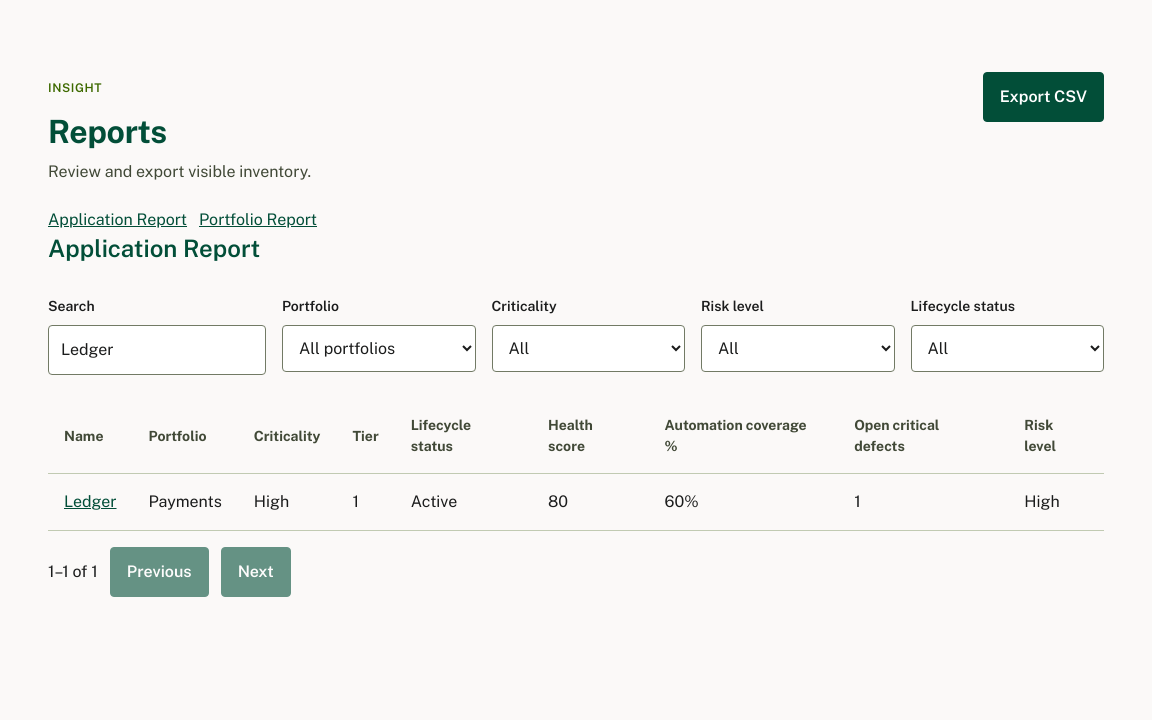
Test: reports › exports filtered CSV and displays server errors
Expected: the link "Ledger" is shown, [64,492,116,511]
Click the button "Export CSV" at (1043, 97), box [983,72,1104,122]
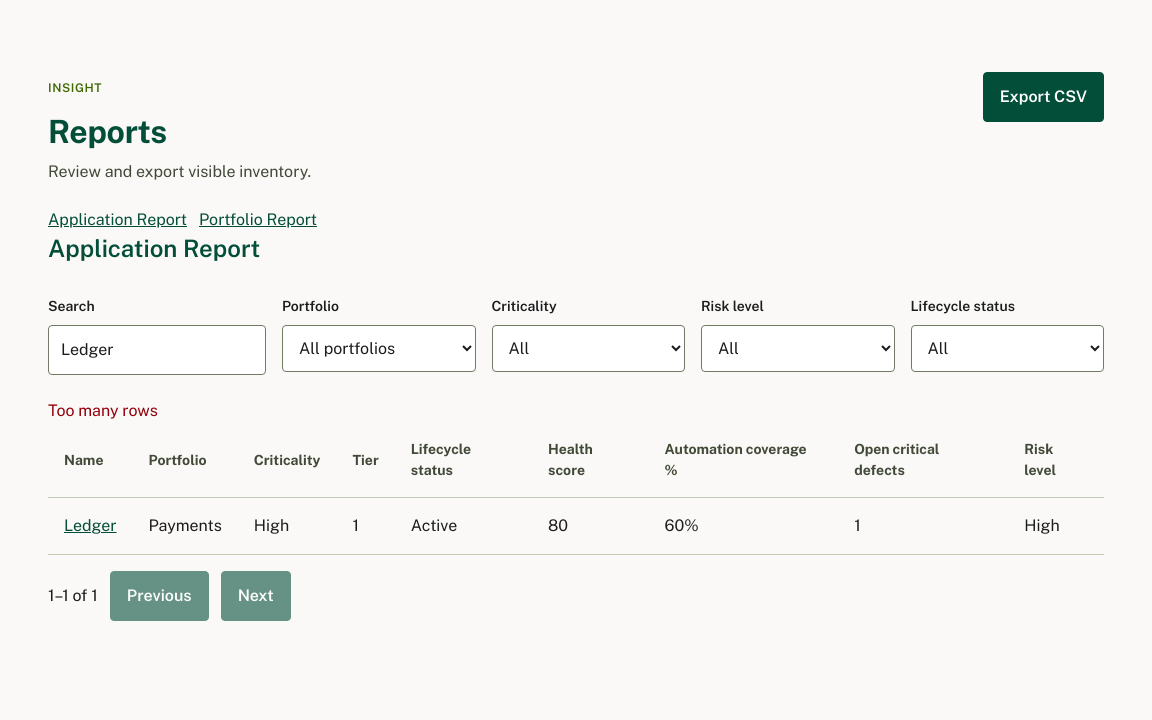
Now the message reads "Too many rows", box [48,401,158,420]
